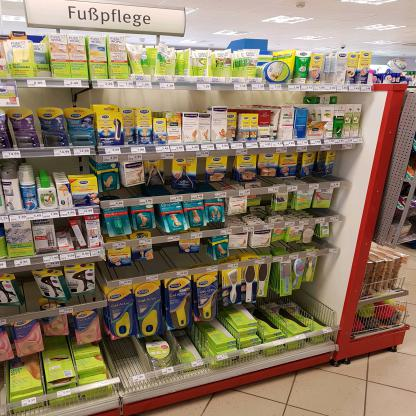Void: (110, 340, 139, 376), (35, 158, 95, 173), (250, 195, 269, 218)
